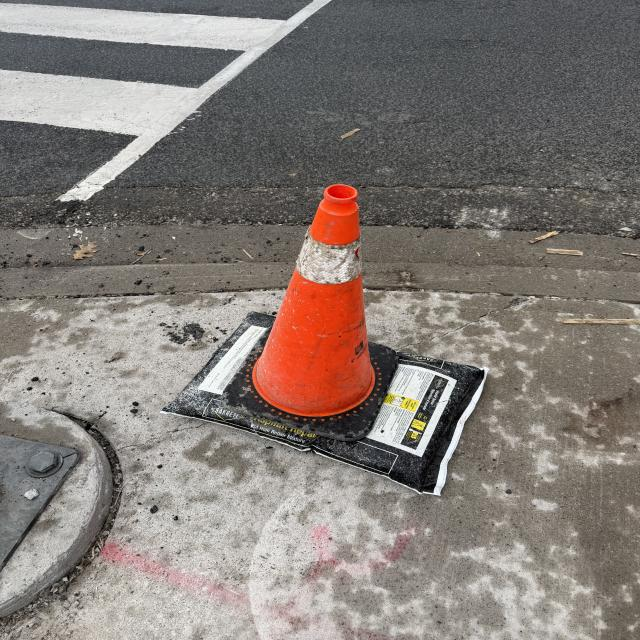Traffic Cone: (238, 184, 393, 433)
